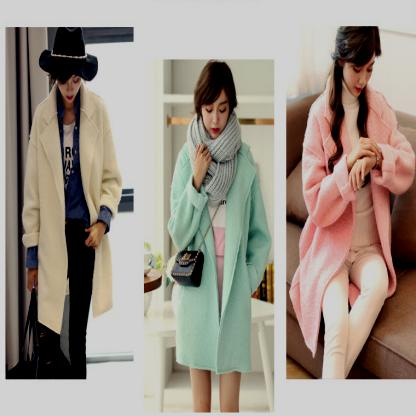dress: (292, 70, 414, 346), (22, 80, 126, 333), (168, 130, 265, 362), (34, 212, 100, 373), (322, 241, 389, 393)
